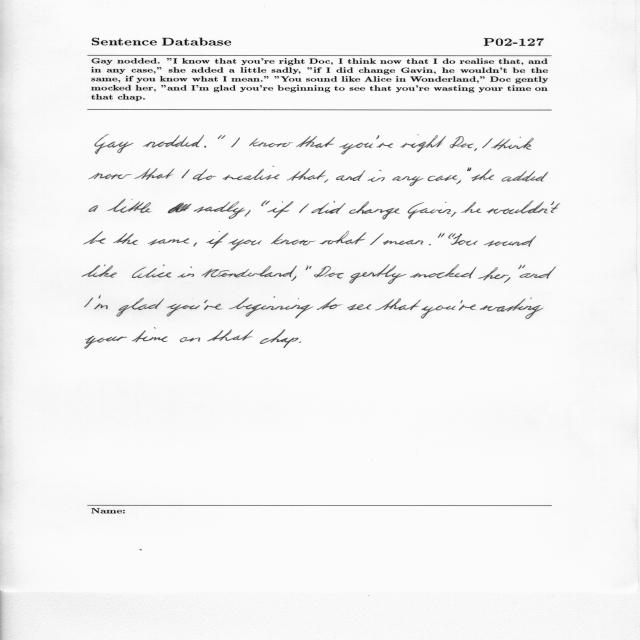word: (451, 200, 560, 217), (229, 296, 313, 318), (480, 298, 544, 319), (201, 266, 297, 278), (349, 265, 407, 284), (194, 201, 245, 219), (349, 202, 400, 220), (117, 298, 165, 317), (410, 265, 477, 278), (401, 135, 446, 153), (223, 166, 280, 180), (143, 135, 204, 148), (95, 134, 134, 154), (260, 329, 298, 348), (267, 201, 309, 218), (408, 203, 451, 219), (320, 231, 366, 245), (107, 199, 152, 213), (484, 236, 536, 247), (375, 299, 421, 311), (207, 330, 253, 342), (492, 137, 534, 150), (85, 336, 127, 349), (271, 234, 315, 246), (287, 168, 326, 181), (132, 265, 171, 278), (502, 171, 548, 182), (132, 328, 168, 342), (421, 305, 456, 319), (135, 168, 175, 180), (296, 136, 335, 148), (311, 201, 346, 214), (82, 265, 117, 278), (166, 304, 200, 317), (520, 267, 556, 279), (339, 143, 373, 155), (478, 267, 509, 280), (249, 138, 293, 147), (207, 231, 229, 248), (228, 239, 262, 250), (317, 297, 343, 310), (451, 234, 478, 246), (504, 265, 522, 283), (292, 265, 312, 281), (336, 170, 365, 181), (393, 176, 424, 186), (84, 231, 106, 245), (113, 233, 138, 245), (428, 175, 461, 184), (450, 136, 474, 148), (193, 169, 217, 181), (148, 239, 189, 246), (471, 169, 494, 181), (168, 203, 192, 214), (89, 173, 132, 179), (416, 202, 446, 210), (376, 135, 393, 148), (368, 170, 385, 182), (314, 266, 331, 278), (383, 240, 423, 245), (94, 295, 108, 309), (204, 300, 223, 310), (178, 267, 195, 278), (459, 300, 476, 311), (370, 233, 384, 245), (347, 304, 371, 310), (324, 273, 344, 279), (482, 138, 493, 148), (180, 337, 200, 342), (231, 138, 240, 148), (85, 298, 93, 308), (182, 169, 190, 178), (89, 205, 98, 212), (261, 200, 270, 206), (448, 233, 456, 239), (245, 210, 251, 217), (438, 233, 444, 238), (218, 135, 225, 139), (324, 179, 328, 183), (467, 167, 471, 171), (193, 243, 197, 247), (474, 148, 477, 151), (522, 265, 525, 268), (204, 146, 206, 148), (299, 341, 301, 343), (428, 244, 431, 245)
